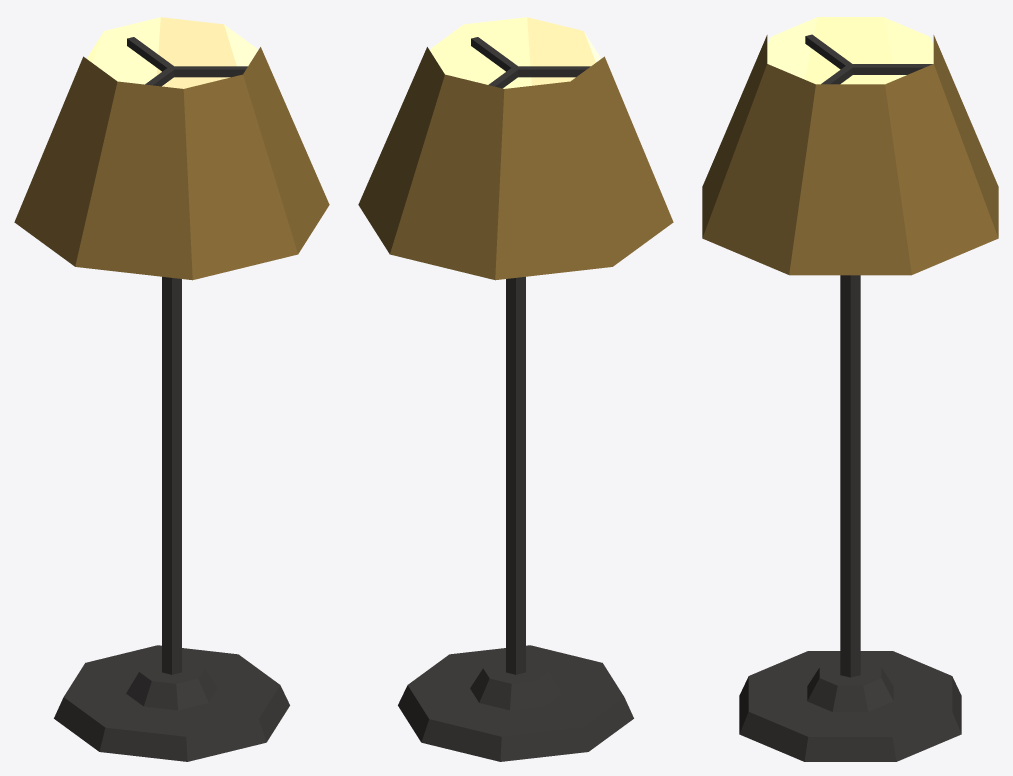
3 renders of one model, left to right at view 1: azimuth 30°, elevation 25°; view 2: azimuth 150°, elevation 25°; view 3: azimuth 270°, elevation 25°, orthographic.
Parts seen in each view (by area): view 1: furniture_4_lamp; view 2: furniture_4_lamp; view 3: furniture_4_lamp.
Boxes of the visible parts, <box> form: furniture_4_lamp: <box>14,17,329,761</box>; furniture_4_lamp: <box>358,17,673,761</box>; furniture_4_lamp: <box>702,17,998,761</box>.
Bounding box in the file's own units: 0.8869 × 2.2 × 0.8869.
